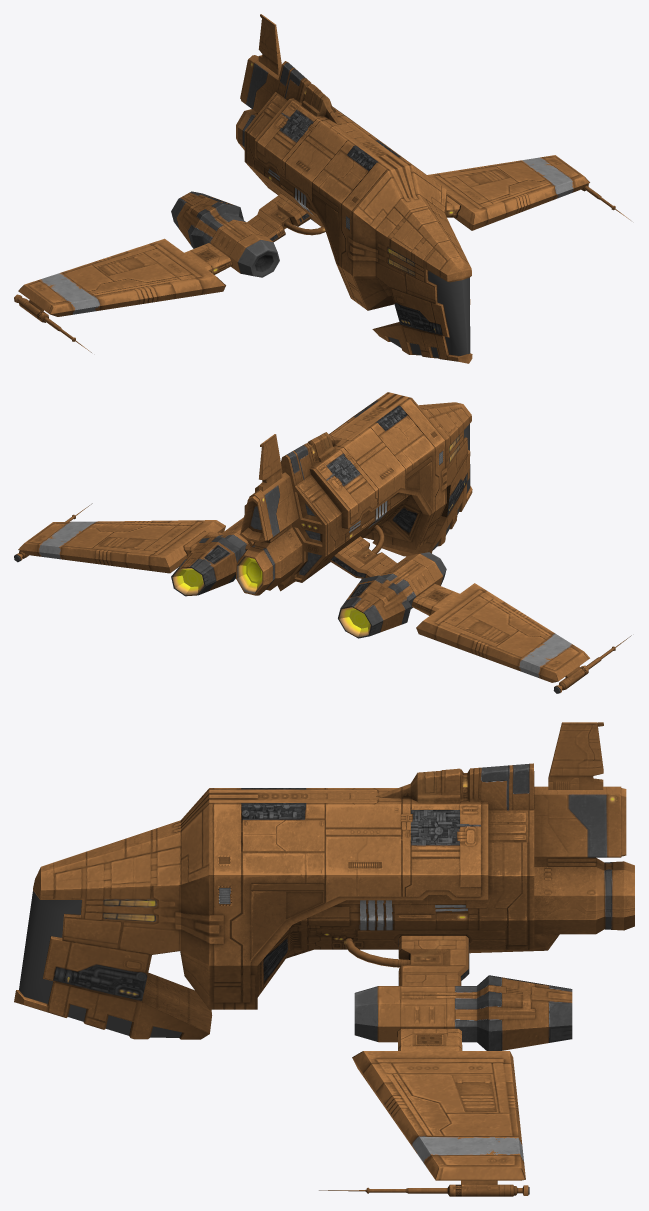
File: 64034_lite.glb
3 renders of one model, top to bottom at view 1: azimuth 30°, elevation 25°; view 2: azimuth 150°, elevation 25°; view 3: azimuth 270°, elevation 25°, orthographic. The views are drawn at different scales.
Visible parts, largest first — view 1: ship; view 2: ship; view 3: ship.
Boxes of the visible parts, box(x1,y1,x2,y2) form: ship: box(14, 14, 630, 363); ship: box(14, 392, 631, 693); ship: box(14, 722, 634, 1196).
Size of the model in its own units: 0.4301 by 0.1654 by 0.2983.
1 material, 1 textured.
